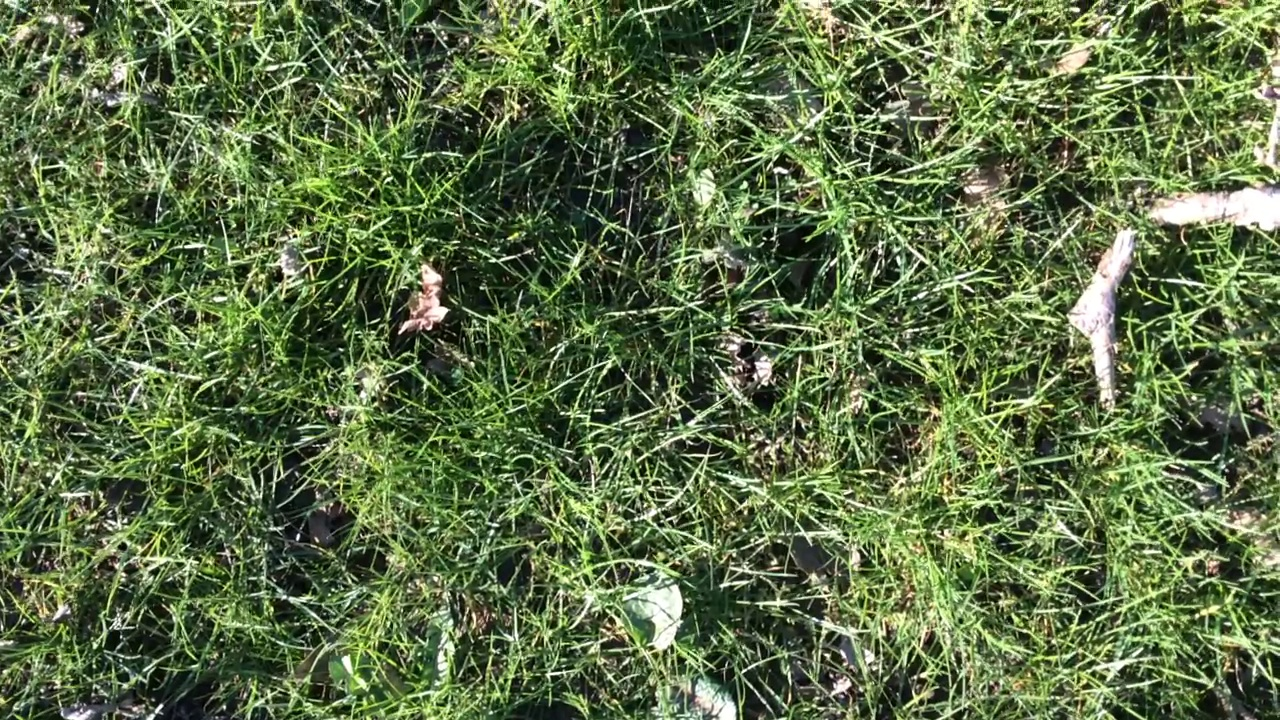rumex: (632, 572, 685, 653), (660, 675, 736, 720)
